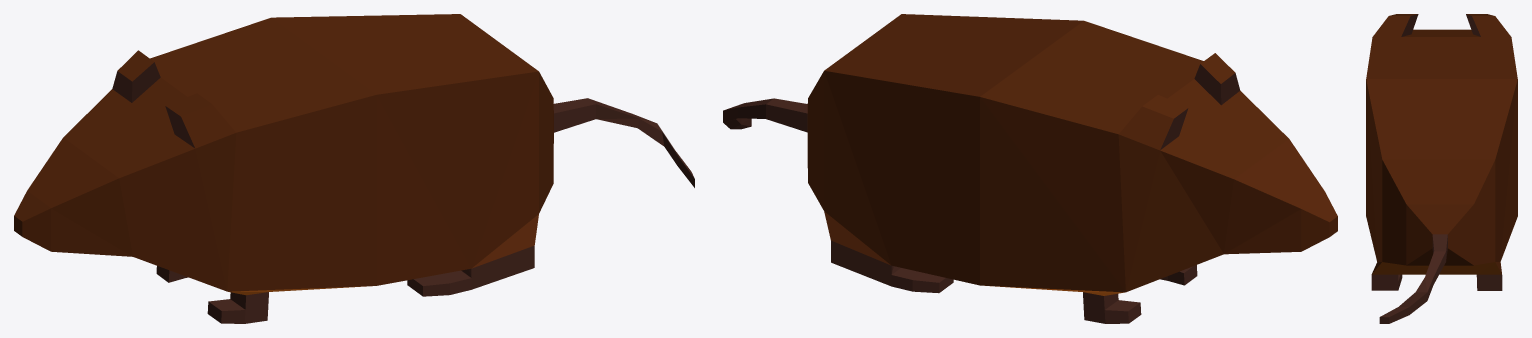
File: mouse.obj
The picture shows the model from 3 angles, left to right: view 1: azimuth 30°, elevation 25°; view 2: azimuth 150°, elevation 25°; view 3: azimuth 270°, elevation 25°; orthographic projection. The views are drawn at different scales.
Parts seen in each view (by area): view 1: Mouse_Cube; view 2: Mouse_Cube; view 3: Mouse_Cube.
Part boxes in pixels (<box>): Mouse_Cube: <box>14,14,694,323</box>; Mouse_Cube: <box>723,14,1337,323</box>; Mouse_Cube: <box>1366,14,1517,323</box>.
Bounding box in the file's own units: 1.54 × 0.555 × 0.4404.
